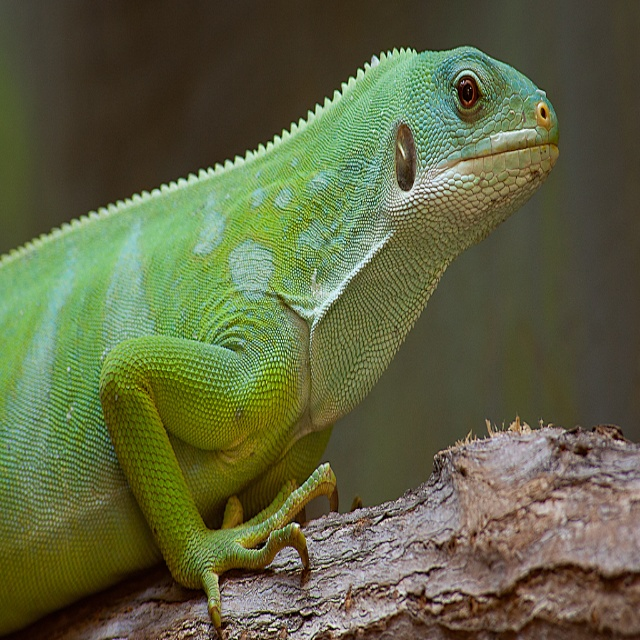Lizard: (0, 47, 560, 640)
